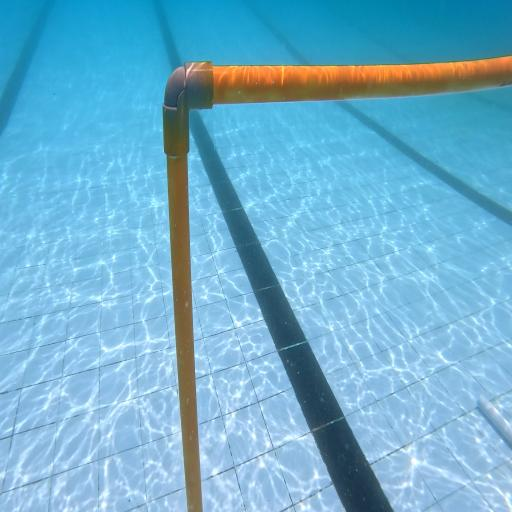gate: (162, 61, 512, 512)
